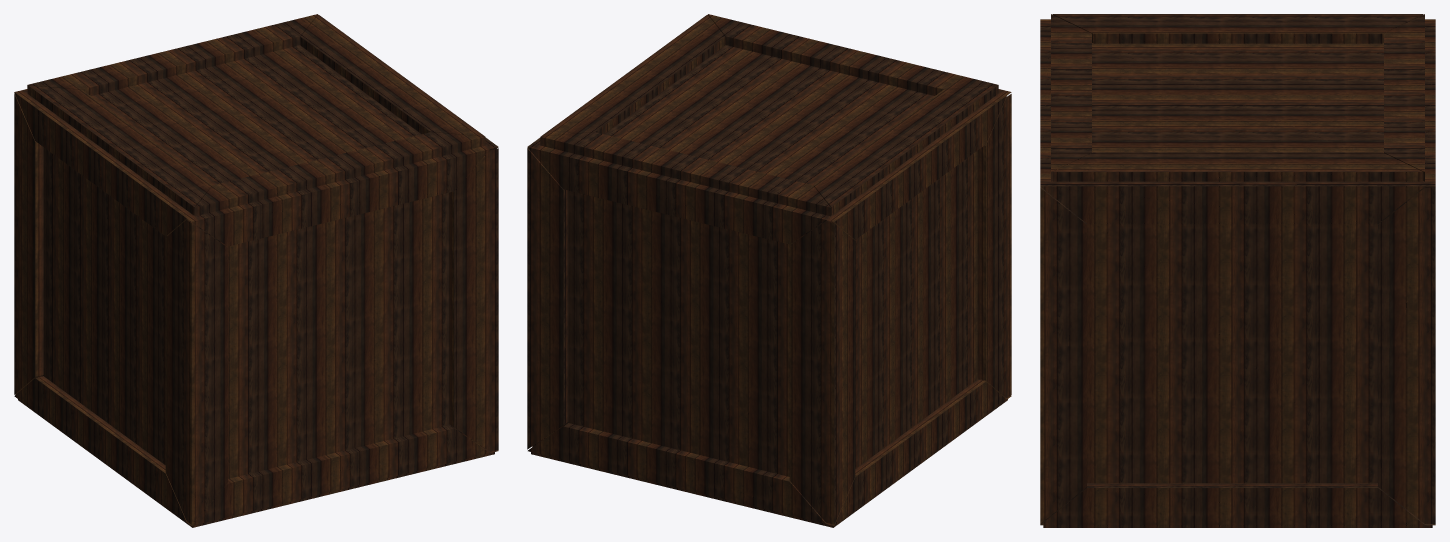
3 renders of one model, left to right at view 1: azimuth 30°, elevation 25°; view 2: azimuth 150°, elevation 25°; view 3: azimuth 270°, elevation 25°, orthographic. The views are drawn at different scales.
Visible parts, largest first — view 1: Crate_NoPallet_Closed_low; view 2: Crate_NoPallet_Closed_low; view 3: Crate_NoPallet_Closed_low.
Boxes of the visible parts, bbox=[...] form: Crate_NoPallet_Closed_low: bbox=[14, 14, 498, 527]; Crate_NoPallet_Closed_low: bbox=[527, 14, 1011, 527]; Crate_NoPallet_Closed_low: bbox=[1040, 14, 1435, 527].
Bounding box in the file's own units: 2.11 × 2.08 × 2.11.
Materials: 1 (1 with a texture image).
